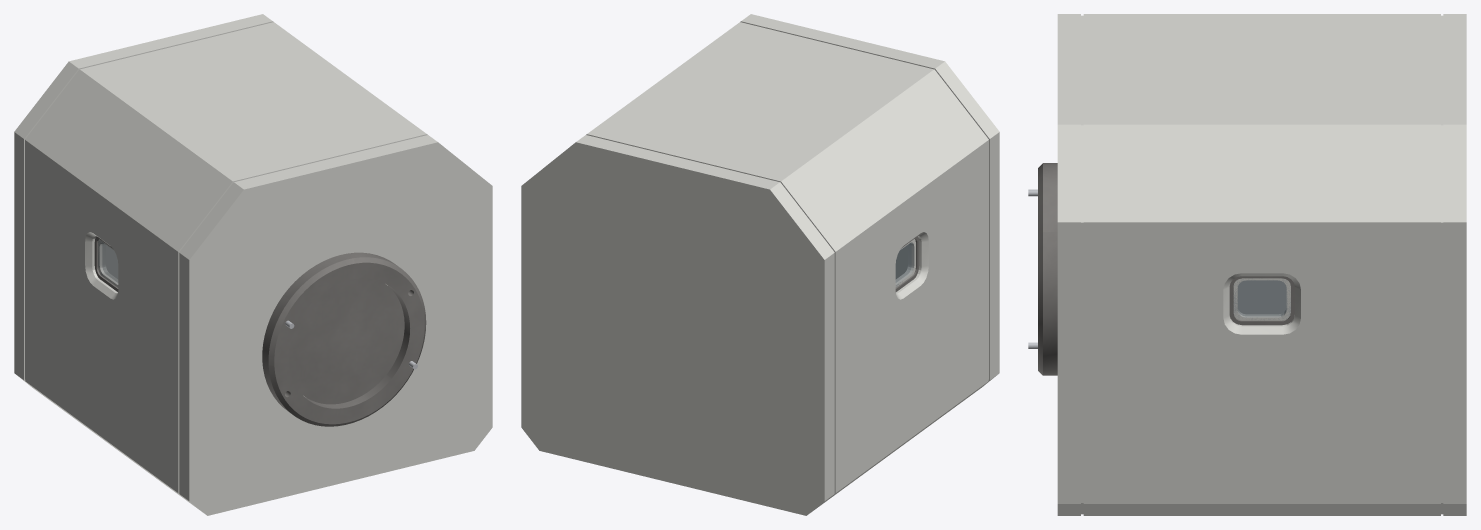
The model's file is ax_rover_05_back_seats.glb.
3 views of the same model, side by side, from view 1: azimuth 30°, elevation 25°; view 2: azimuth 150°, elevation 25°; view 3: azimuth 270°, elevation 25° (orthographic). The views are drawn at different scales.
Parts seen in each view (by area): view 1: hub_shell, hatch_door_1, hub_ring_front, window_glass; view 2: hub_shell, window_glass; view 3: hub_shell, hub_ring_front, window_glass, window_frames.
Part boxes in pixels (x1,y1,x2,y2): hub_shell: [14, 14, 492, 515]; hatch_door_1: [289, 278, 404, 404]; hub_ring_front: [262, 252, 426, 426]; window_glass: [98, 240, 118, 284]; hub_shell: [521, 14, 999, 515]; window_glass: [895, 242, 913, 286]; hub_shell: [1057, 14, 1466, 515]; hub_ring_front: [1038, 163, 1057, 375]; window_glass: [1234, 280, 1290, 318]; window_frames: [1229, 276, 1294, 325].
Bounding box in the file's own units: 2.5 × 2.56 × 2.68.
Materials: 4 (2 with a texture image).
